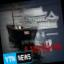fishing boat: (2, 6, 40, 45)
